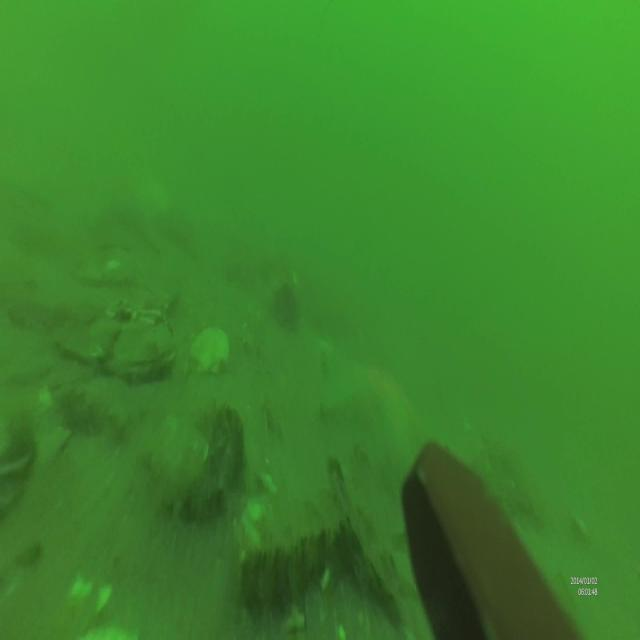echinus: (273, 286, 301, 334)
scallop: (112, 318, 174, 392), (190, 326, 230, 377)
